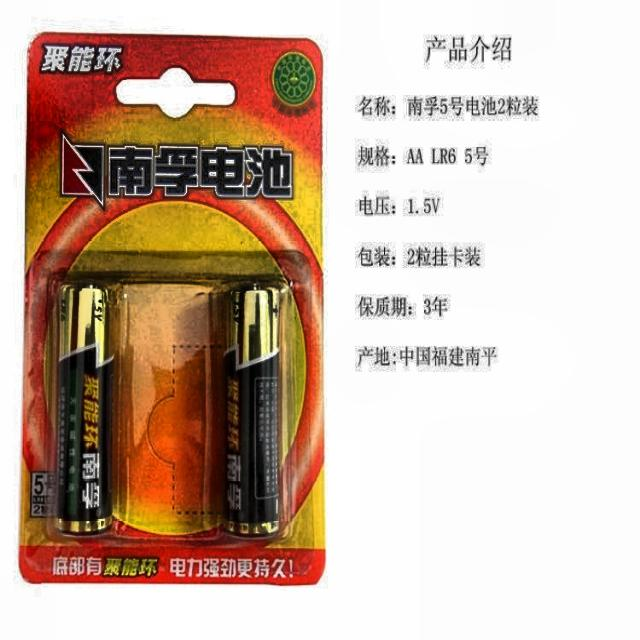Non-Valuable Waste - Batteries: (55, 285, 114, 533), (225, 287, 281, 535)
